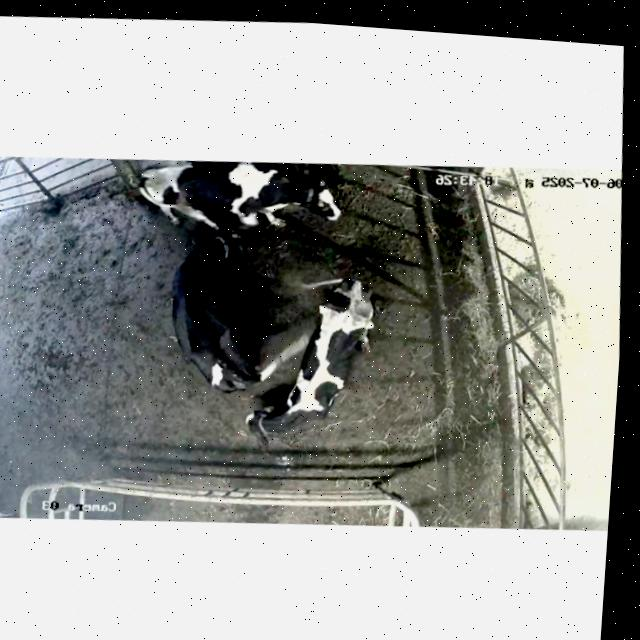stand: (126, 148, 353, 250)
